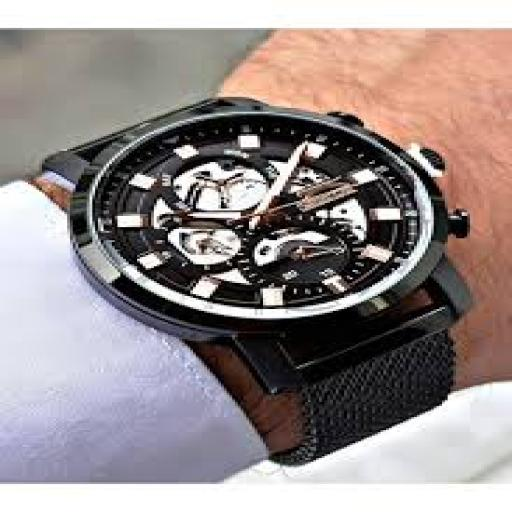KolSaati: (16, 70, 506, 453)
